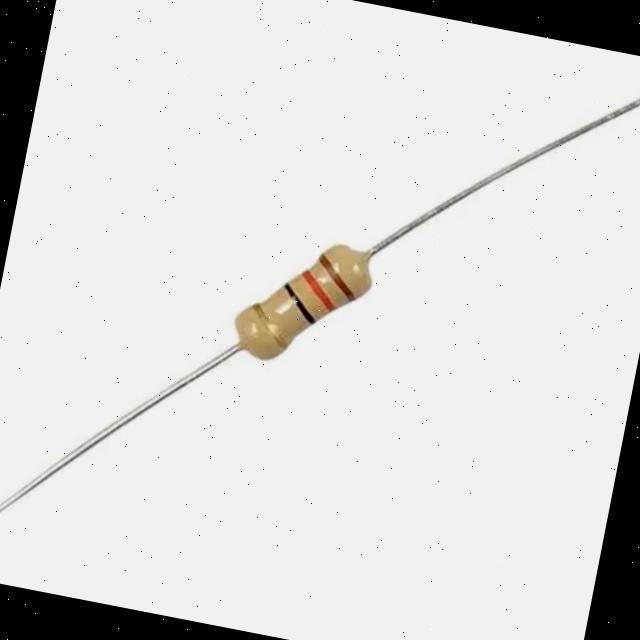black: (282, 281, 317, 328)
brown: (318, 253, 356, 303)
gold: (252, 302, 287, 350)
red: (301, 269, 337, 312)
resistor: (212, 224, 396, 379)
